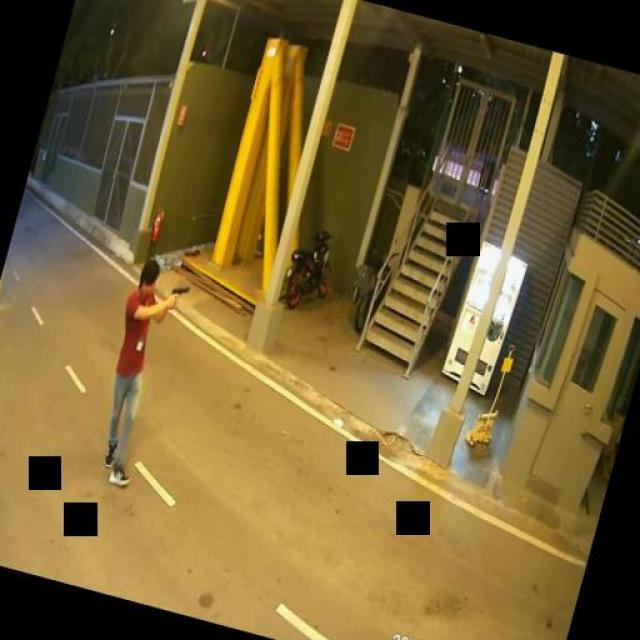gun: (165, 280, 189, 310)
